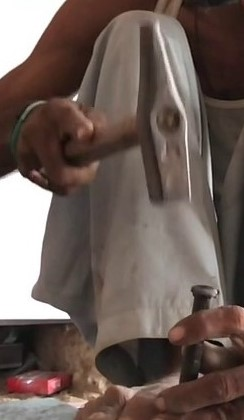driller: (35, 22, 194, 208)
